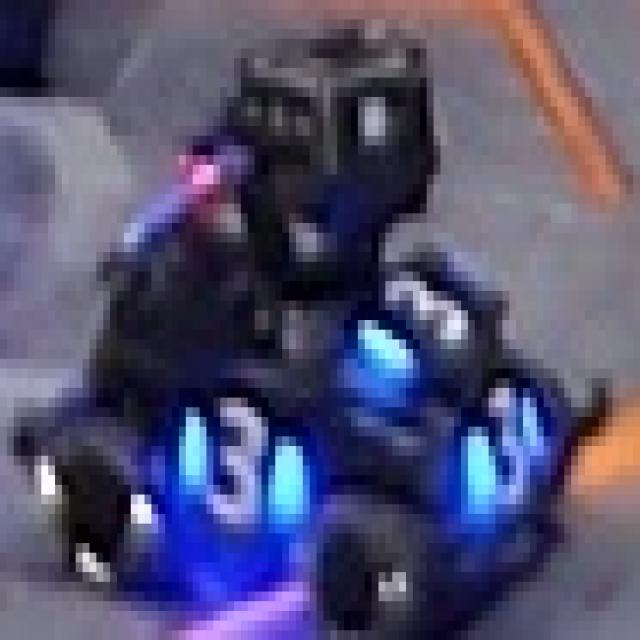B3: (158, 368, 317, 552), (454, 354, 571, 528), (351, 247, 489, 383)
